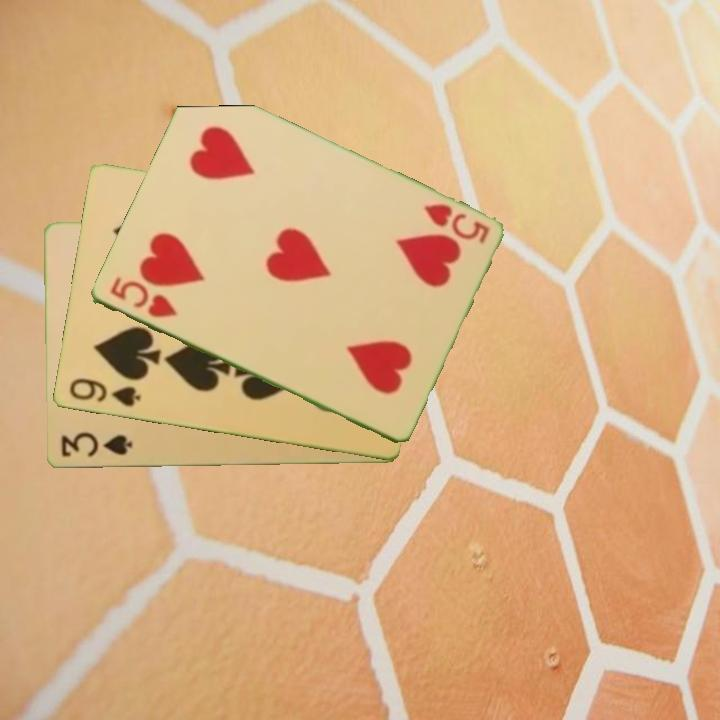3s: (57, 430, 135, 460)
5h: (106, 273, 179, 322), (419, 200, 492, 247)
9s: (65, 375, 143, 410)
